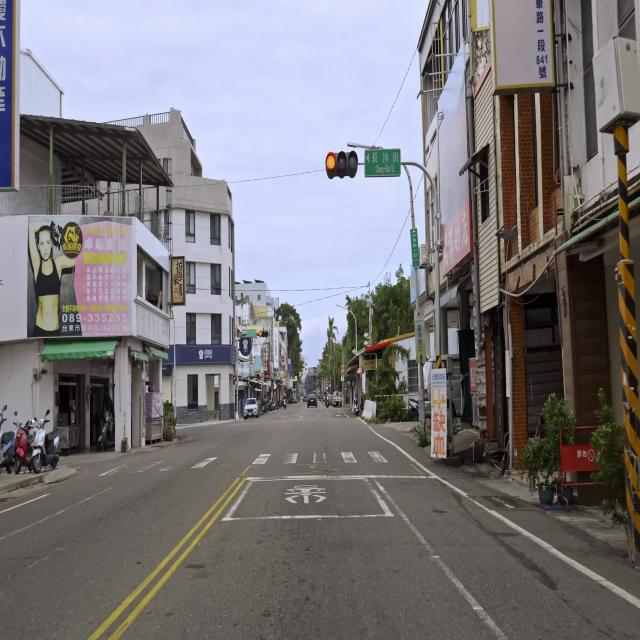red light: (325, 152, 358, 172), (259, 331, 268, 336)
